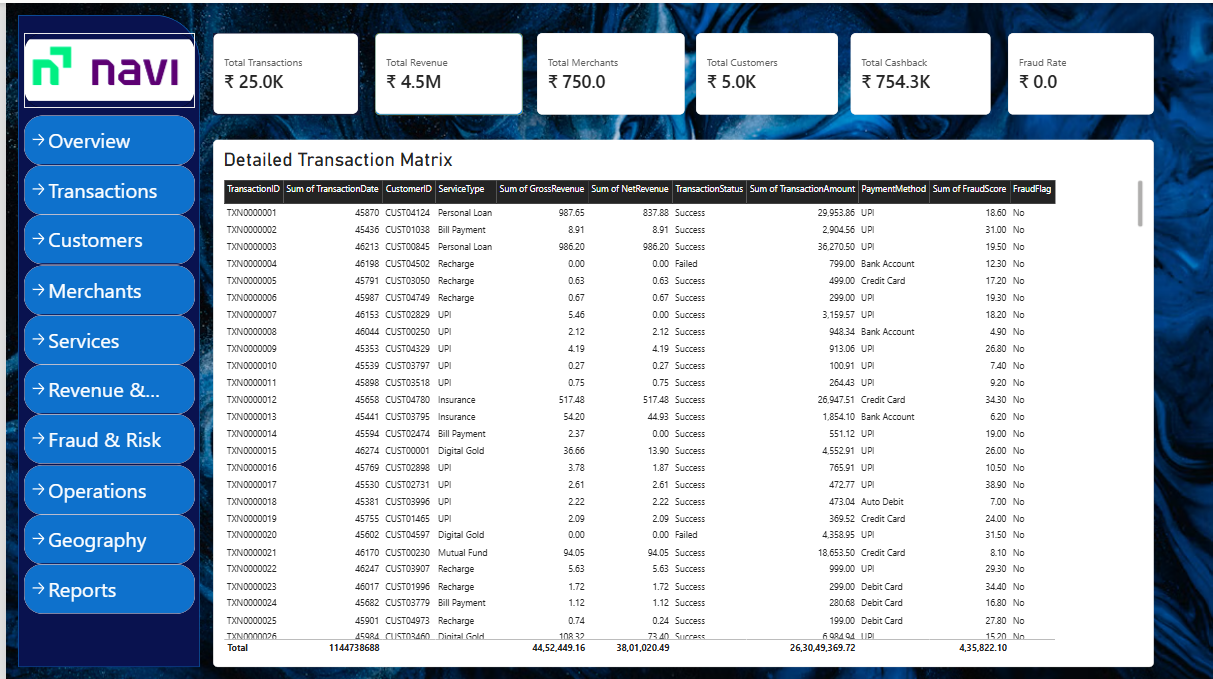

Layout of this report page (visuals, bound fields, positions):
{"tool":"powerbi","page":{"name":"Reports   ","canvas":[1920,1080],"ordinal":10},"visuals":[{"type":"cardVisual","fields":{"Data":["_Measures.Total Transactions"]},"box":[328.8,48.2,232.4,130.4],"z":0},{"type":"cardVisual","fields":{"Data":["_Measures.Total Revenue"]},"box":[586.8,48.2,235.3,130.4],"z":1000},{"type":"cardVisual","fields":{"Data":["_Measures.Total Merchants"]},"box":[844.7,48.2,235.3,130.4],"z":2000},{"type":"cardVisual","fields":{"Data":["_Measures.Total Customers"]},"box":[1097,48.2,226.8,130.4],"z":3000},{"type":"cardVisual","fields":{"Data":["_Measures.Total Cashback"]},"box":[1343.6,48.2,223.9,130.4],"z":4000},{"type":"cardVisual","fields":{"Data":["_Measures.Fraud Rate"]},"box":[1593.1,48.2,232.4,130.4],"z":5000},{"type":"shape","box":[19.8,19.8,289.1,1037.5],"z":16000},{"type":"image","box":[28.3,48.2,272.1,119.1],"z":17000},{"type":"actionButton","box":[28.3,178.6,272.1,79.4],"z":18000},{"type":"actionButton","box":[28.3,258,272.1,79.4],"z":19000},{"type":"actionButton","box":[28.3,734.2,272.1,79.4],"z":20000},{"type":"actionButton","box":[28.3,654.8,272.1,79.4],"z":21000},{"type":"actionButton","box":[28.3,575.4,272.1,79.4],"z":22000},{"type":"actionButton","box":[28.3,337.3,272.1,79.4],"z":23000},{"type":"actionButton","box":[28.3,416.7,272.1,79.4],"z":24000},{"type":"actionButton","box":[28.3,496.1,272.1,79.4],"z":25000},{"type":"actionButton","box":[28.3,813.5,272.1,79.4],"z":26000},{"type":"actionButton","box":[28.3,892.9,272.1,79.4],"z":27000},{"type":"tableEx","title":"Detailed Transaction Matrix","fields":{"Values":["FactTransactions.TransactionID","Sum(FactTransactions.TransactionDate)","FactTransactions.CustomerID","FactTransactions.ServiceType","Sum(FactTransactions.GrossRevenue)","Sum(FactTransactions.NetRevenue)","FactTransactions.TransactionStatus","Sum(FactTransactions.TransactionAmount)","FactTransactions.PaymentMethod","Sum(FactTransactions.FraudScore)","FactTransactions.FraudFlag"]},"box":[328.8,218.3,1496.7,839.1],"z":27001}]}

Visuals, with their boxes on the page's 1920x1080 design canvas (x1, y1, x2, y2). These are canvas units, not pixel positions in the 1213x679 screenshot, which may show the page scaled, cropped or inside an application window:
cardVisual - _Measures.Total Transactions: crop(329, 48, 561, 179)
cardVisual - _Measures.Total Revenue: crop(587, 48, 822, 179)
cardVisual - _Measures.Total Merchants: crop(845, 48, 1080, 179)
cardVisual - _Measures.Total Customers: crop(1097, 48, 1324, 179)
cardVisual - _Measures.Total Cashback: crop(1344, 48, 1568, 179)
cardVisual - _Measures.Fraud Rate: crop(1593, 48, 1826, 179)
shape: crop(20, 20, 309, 1057)
image: crop(28, 48, 300, 167)
actionButton: crop(28, 179, 300, 258)
actionButton: crop(28, 258, 300, 337)
actionButton: crop(28, 734, 300, 814)
actionButton: crop(28, 655, 300, 734)
actionButton: crop(28, 575, 300, 655)
actionButton: crop(28, 337, 300, 417)
actionButton: crop(28, 417, 300, 496)
actionButton: crop(28, 496, 300, 576)
actionButton: crop(28, 814, 300, 893)
actionButton: crop(28, 893, 300, 972)
"Detailed Transaction Matrix" tableEx: crop(329, 218, 1826, 1057)
